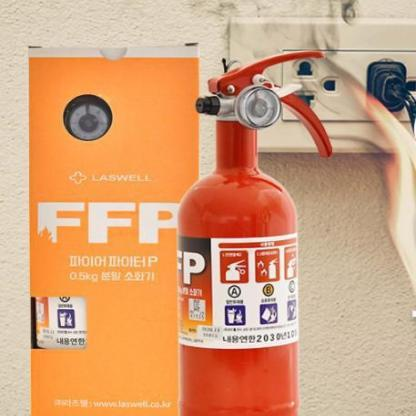Fire Extinguisher: (172, 22, 338, 410)
